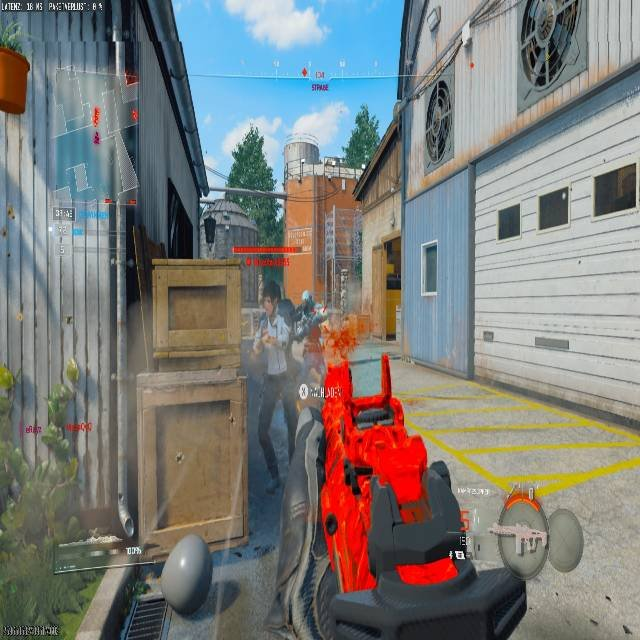head: (261, 279, 281, 316), (301, 291, 313, 305)
player: (248, 277, 325, 490), (286, 299, 327, 406)
